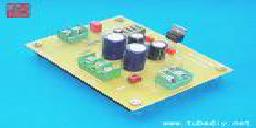Electrolytic-Capacitor: (120, 41, 149, 71), (102, 32, 126, 63), (150, 40, 167, 61)
